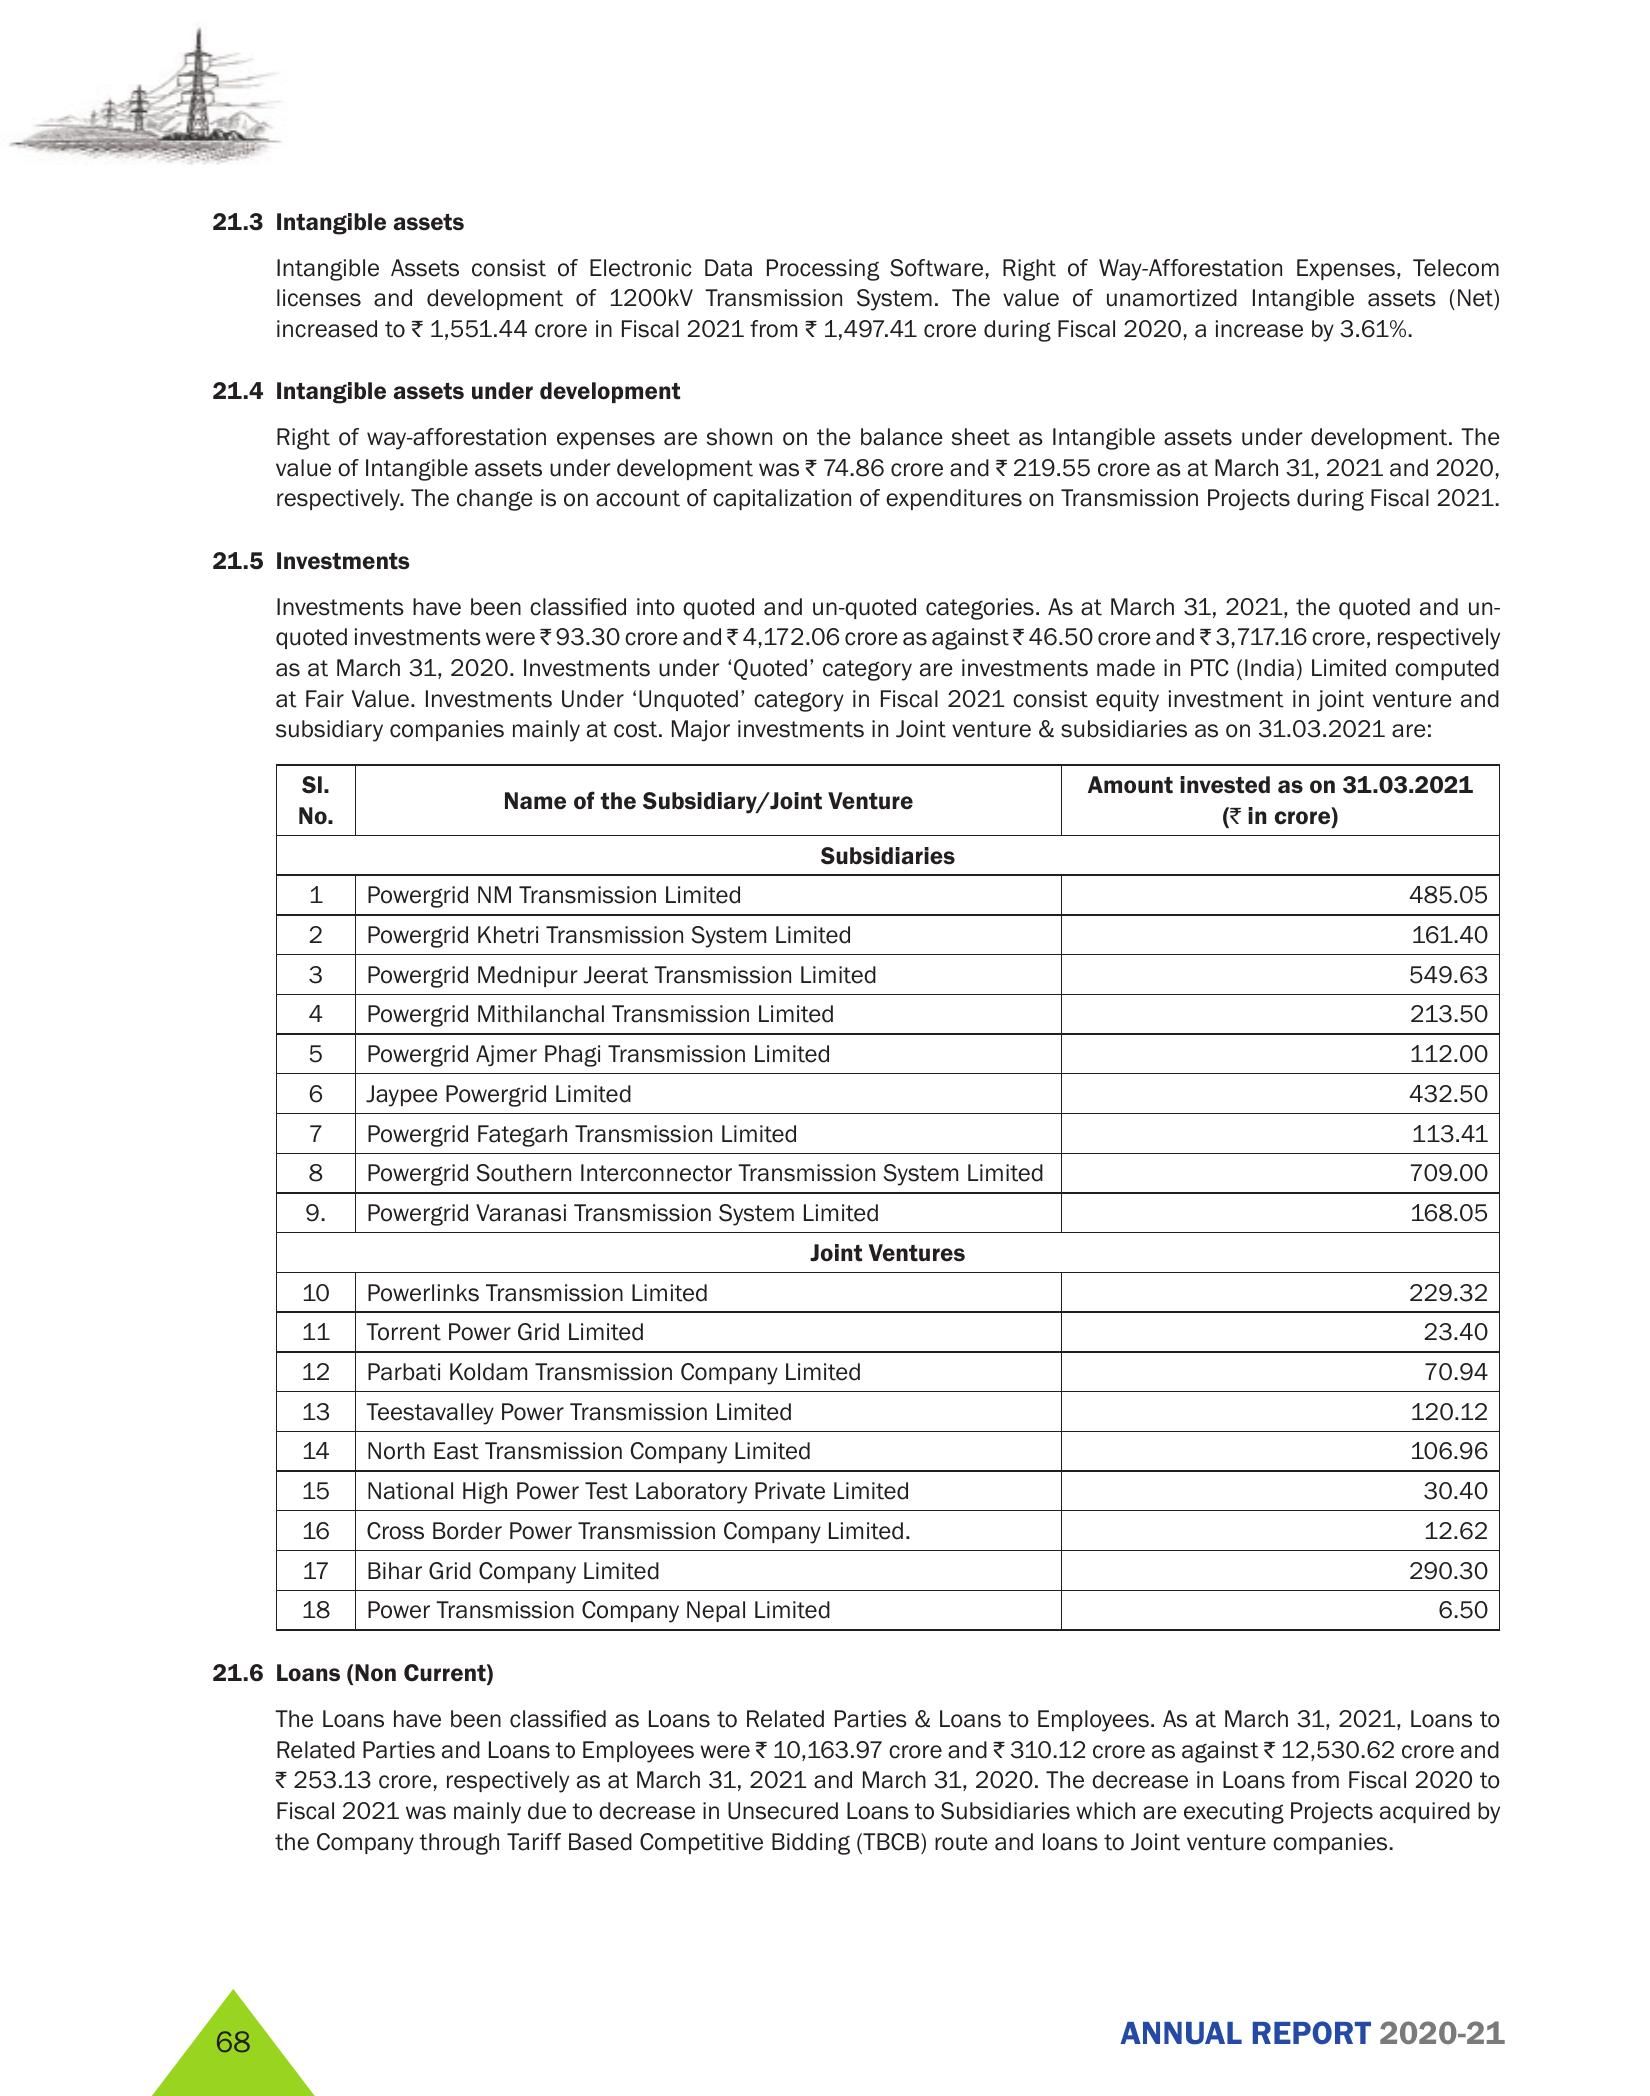Footer: (0, 1968, 1650, 2096)
Header: (0, 0, 1650, 175)
Table: (189, 749, 1528, 1642)
